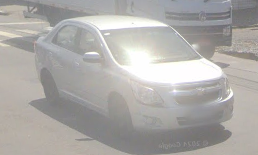car: (33, 16, 237, 144)
